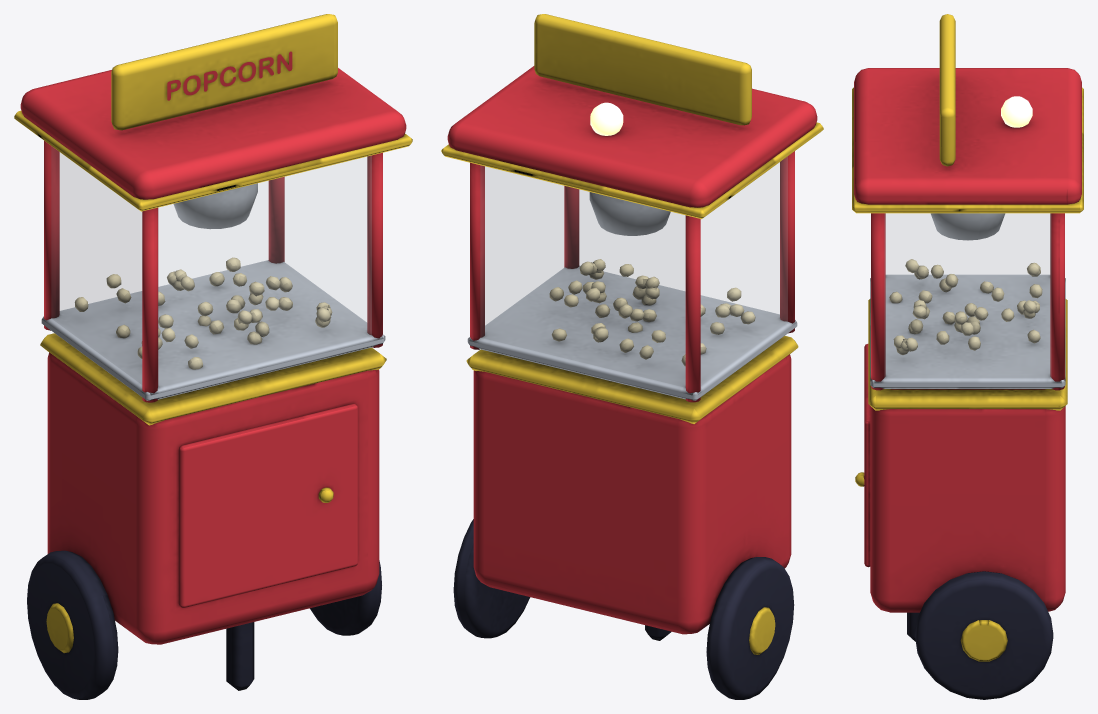
The model's file is popcorn_machine.glb.
3 views of the same model, side by side, from view 1: azimuth 30°, elevation 25°; view 2: azimuth 150°, elevation 25°; view 3: azimuth 270°, elevation 25° (orthographic). The views are drawn at different scales.
Visible parts, largest first — view 1: popcorn_machine; view 2: popcorn_machine; view 3: popcorn_machine.
Boxes of the visible parts, x1=… form: popcorn_machine: x1=14, y1=14, x2=412, y2=699; popcorn_machine: x1=441, y1=14, x2=823, y2=699; popcorn_machine: x1=852, y1=14, x2=1083, y2=699.
Bounding box in the file's own units: 0.76 × 1.57 × 0.57.
Materials: 7 (5 with a texture image).
